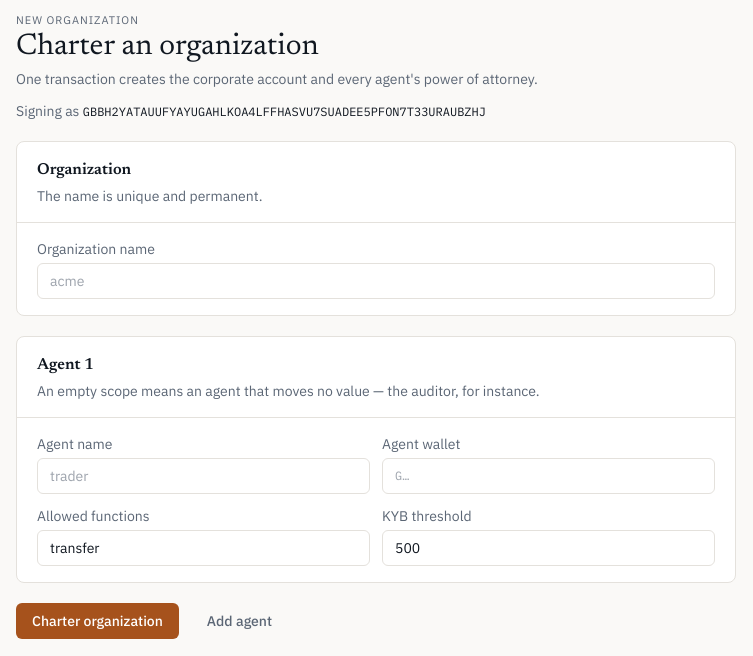
Test: constituição da organização › o título do agente segue o nome digitado
Expected: the heading "Agent 1" is shown, [37, 356, 94, 372]
Type "alphafund" into the field labelled "Organization name" at (376, 280), box [37, 262, 715, 298]
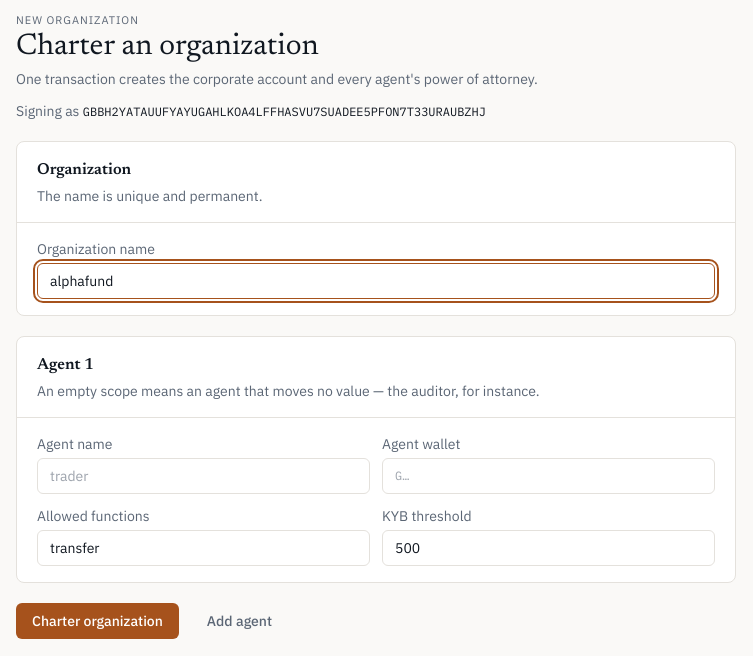
Type "tesoureiro" into the field labelled "Agent name" at (204, 476), box [37, 458, 370, 494]
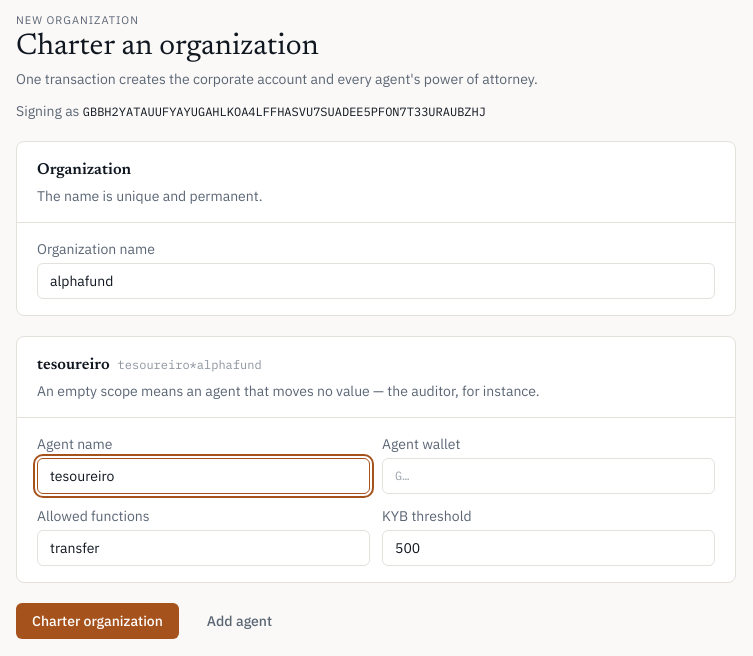
Now the text "tesoureiro*alphafund" is shown, box [118, 356, 262, 372]
Now the heading "Agent 1" is gone
